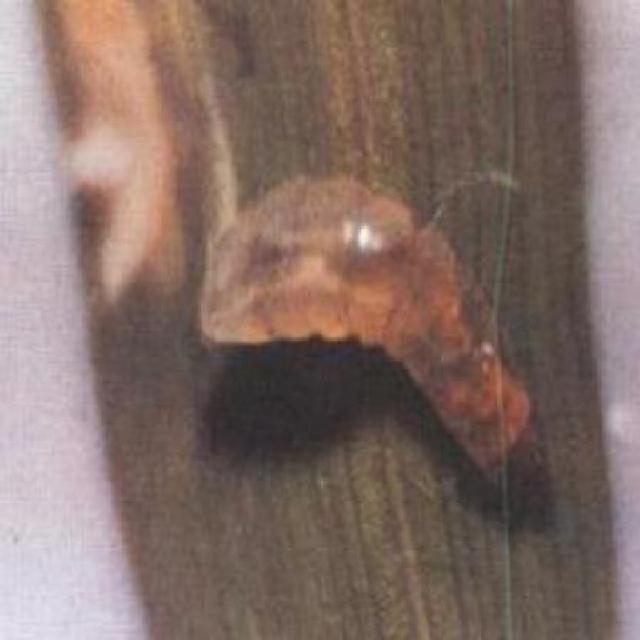whorl-maggot: (190, 166, 542, 489)
